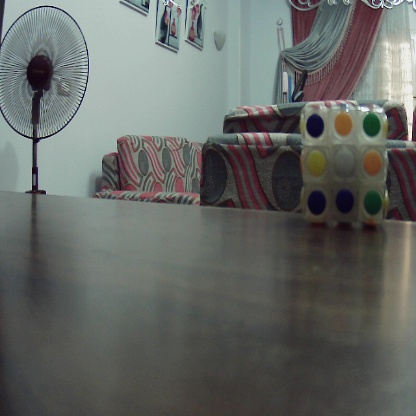Rubix Cube: (300, 102, 390, 228)
